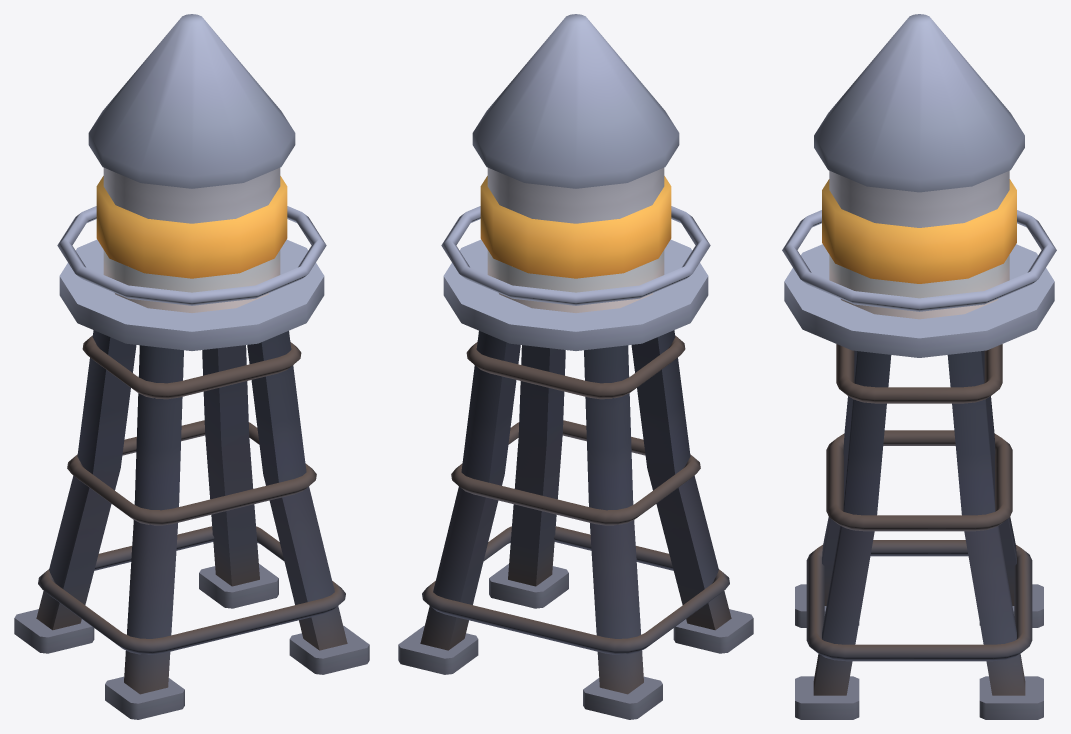
The model's file is ind_water_tower.glb.
The picture shows the model from 3 angles, left to right: view 1: azimuth 30°, elevation 25°; view 2: azimuth 150°, elevation 25°; view 3: azimuth 270°, elevation 25°; orthographic projection. The views are drawn at different scales.
Parts seen in each view (by area): view 1: water-tower; view 2: water-tower; view 3: water-tower.
Boxes of the visible parts, left/top/right/bottom form: water-tower: left=14, top=14, right=369, bottom=719; water-tower: left=398, top=14, right=753, bottom=719; water-tower: left=782, top=14, right=1056, bottom=719.
Size of the model in its own units: 0.8522 by 2.14 by 0.8318.
1 material, 1 textured.
